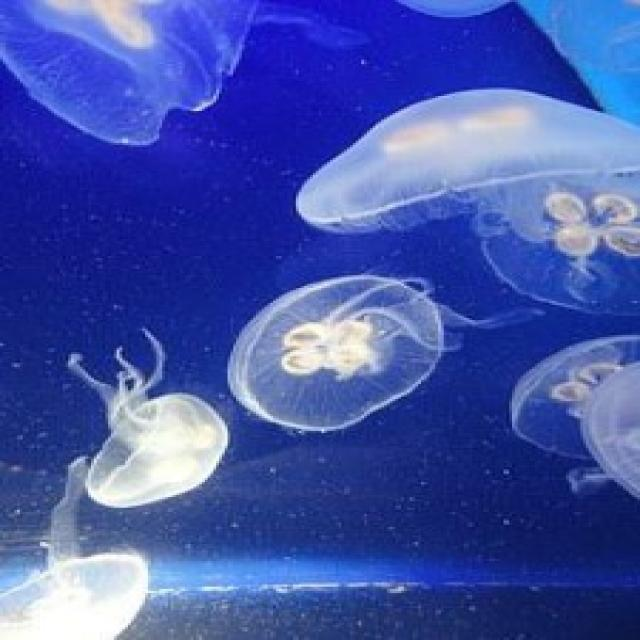Jellyfish: (285, 87, 640, 232), (228, 274, 497, 440), (38, 365, 234, 510), (500, 335, 640, 457), (0, 552, 164, 639)
